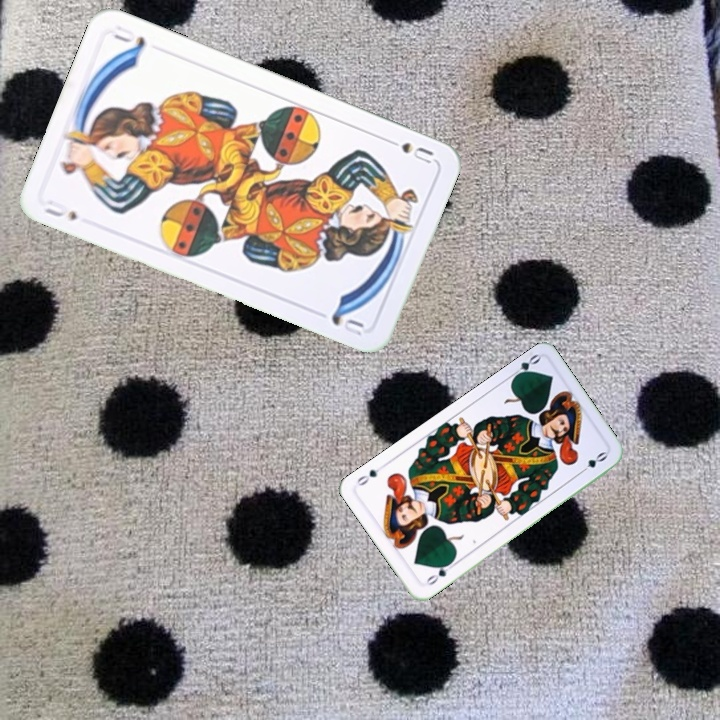GO: (506, 350, 543, 383), (420, 558, 457, 588)
SU: (380, 133, 436, 167), (40, 198, 80, 224)
